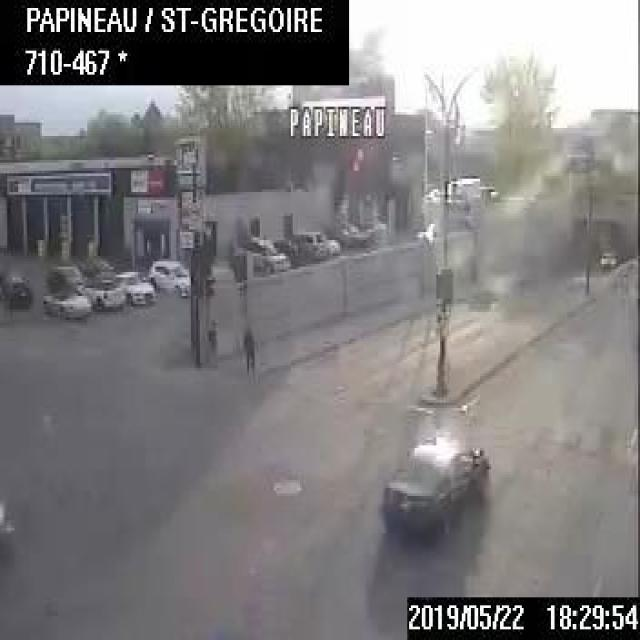pedestrian: (242, 328, 256, 381), (204, 314, 218, 362)
vehicle: (376, 435, 486, 541), (237, 233, 292, 274), (145, 258, 189, 296), (43, 283, 89, 318), (85, 274, 122, 313), (290, 228, 337, 258), (118, 269, 154, 307), (2, 272, 32, 312), (78, 256, 115, 280), (48, 263, 84, 285), (598, 248, 613, 264)
